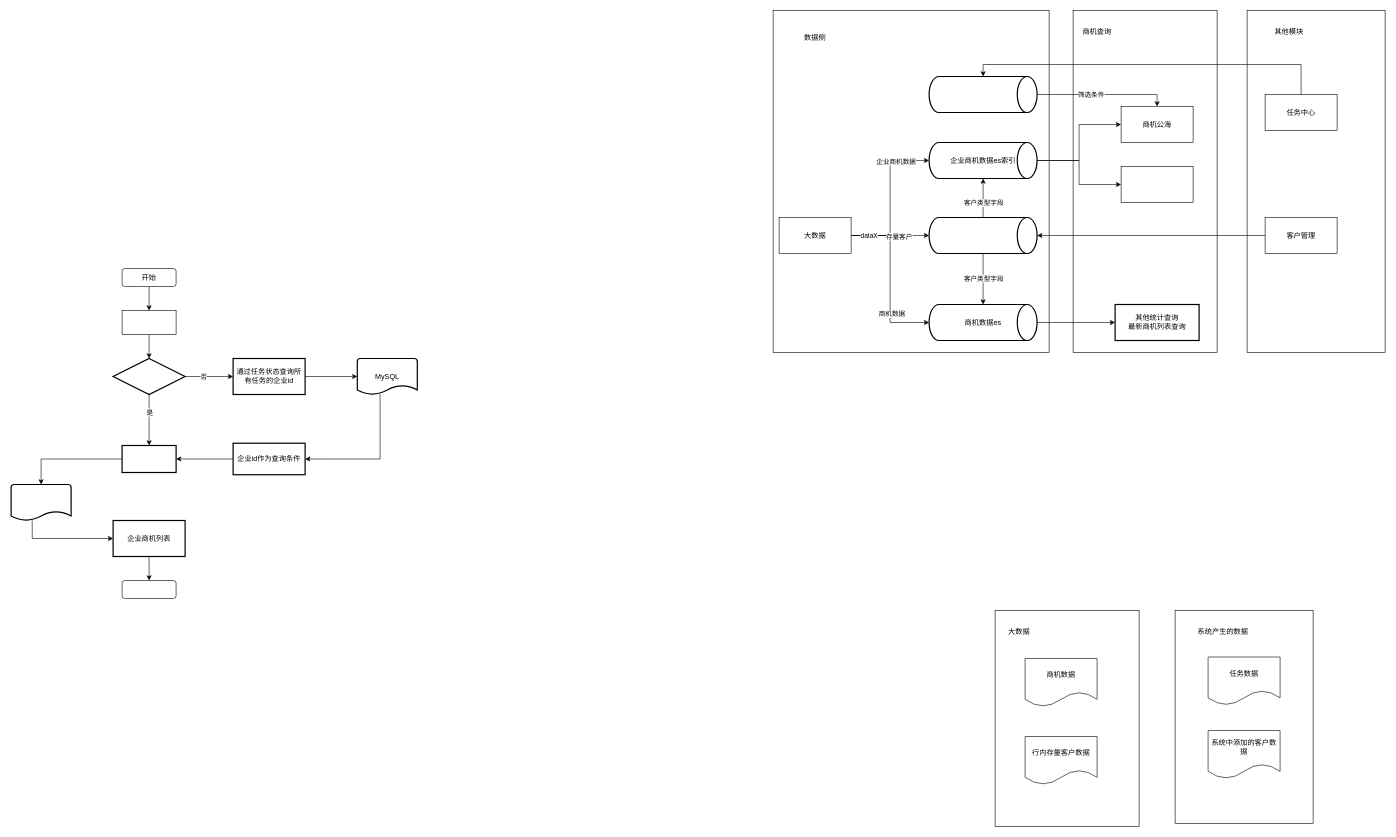
The diagram is 1396 pixels wide and 837 high, and some of its shapes have lost their labels. Here are the shapes that lost their labels. From the top down, the centre of each, then its label:
At [982,94]: "任务MySQL".
At [1156,184]: "存客拓新".
At [982,235]: "MySQL客户表".
At [149,322]: "列表查询".
At [148,376]: "任务状态是否为空？".
At [148,459]: "查询企业商机".
At [40,502]: "ES".
At [149,589]: "结束".
